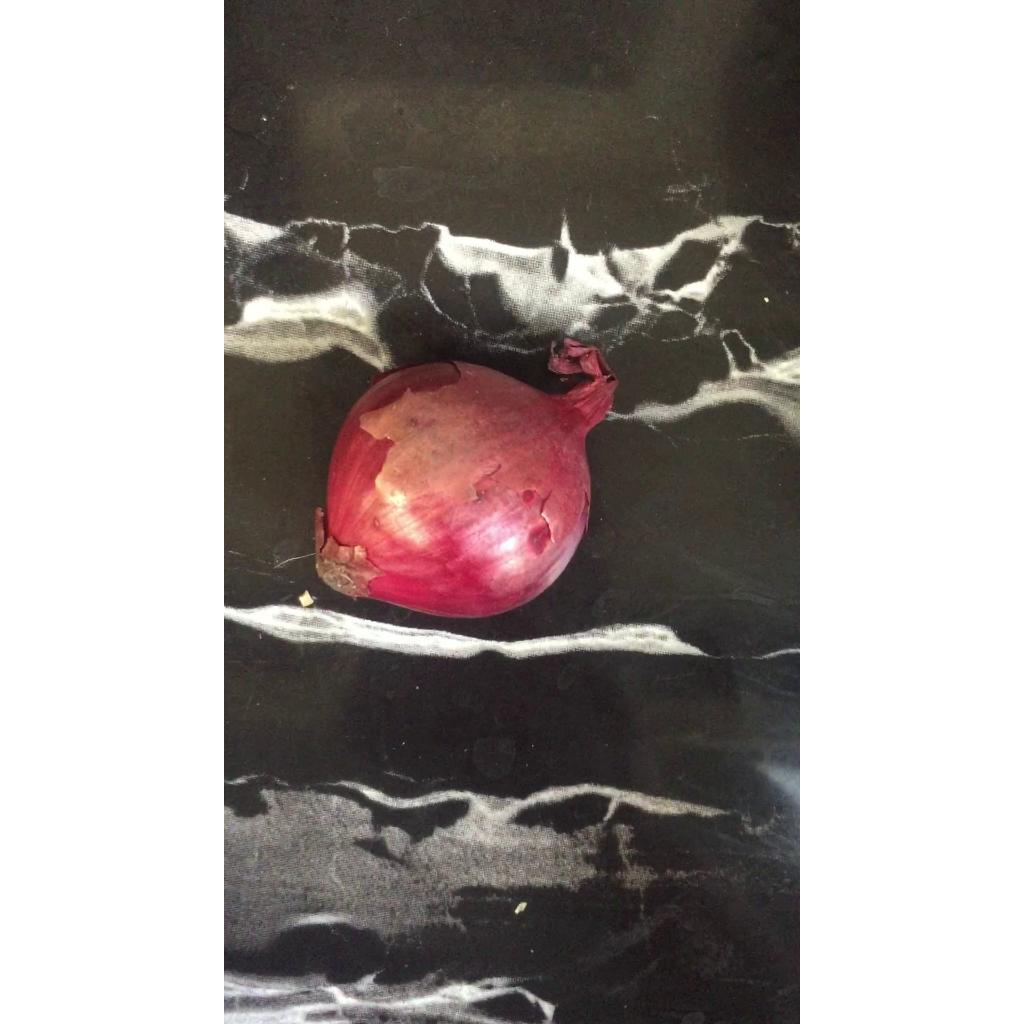Onion: (314, 339, 616, 617)
